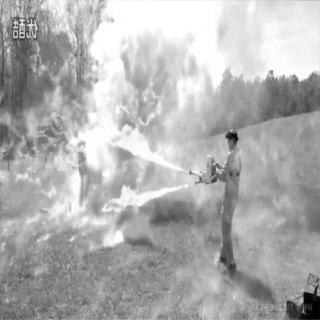Fire: (99, 124, 203, 222)
Smoke: (91, 10, 201, 118)
